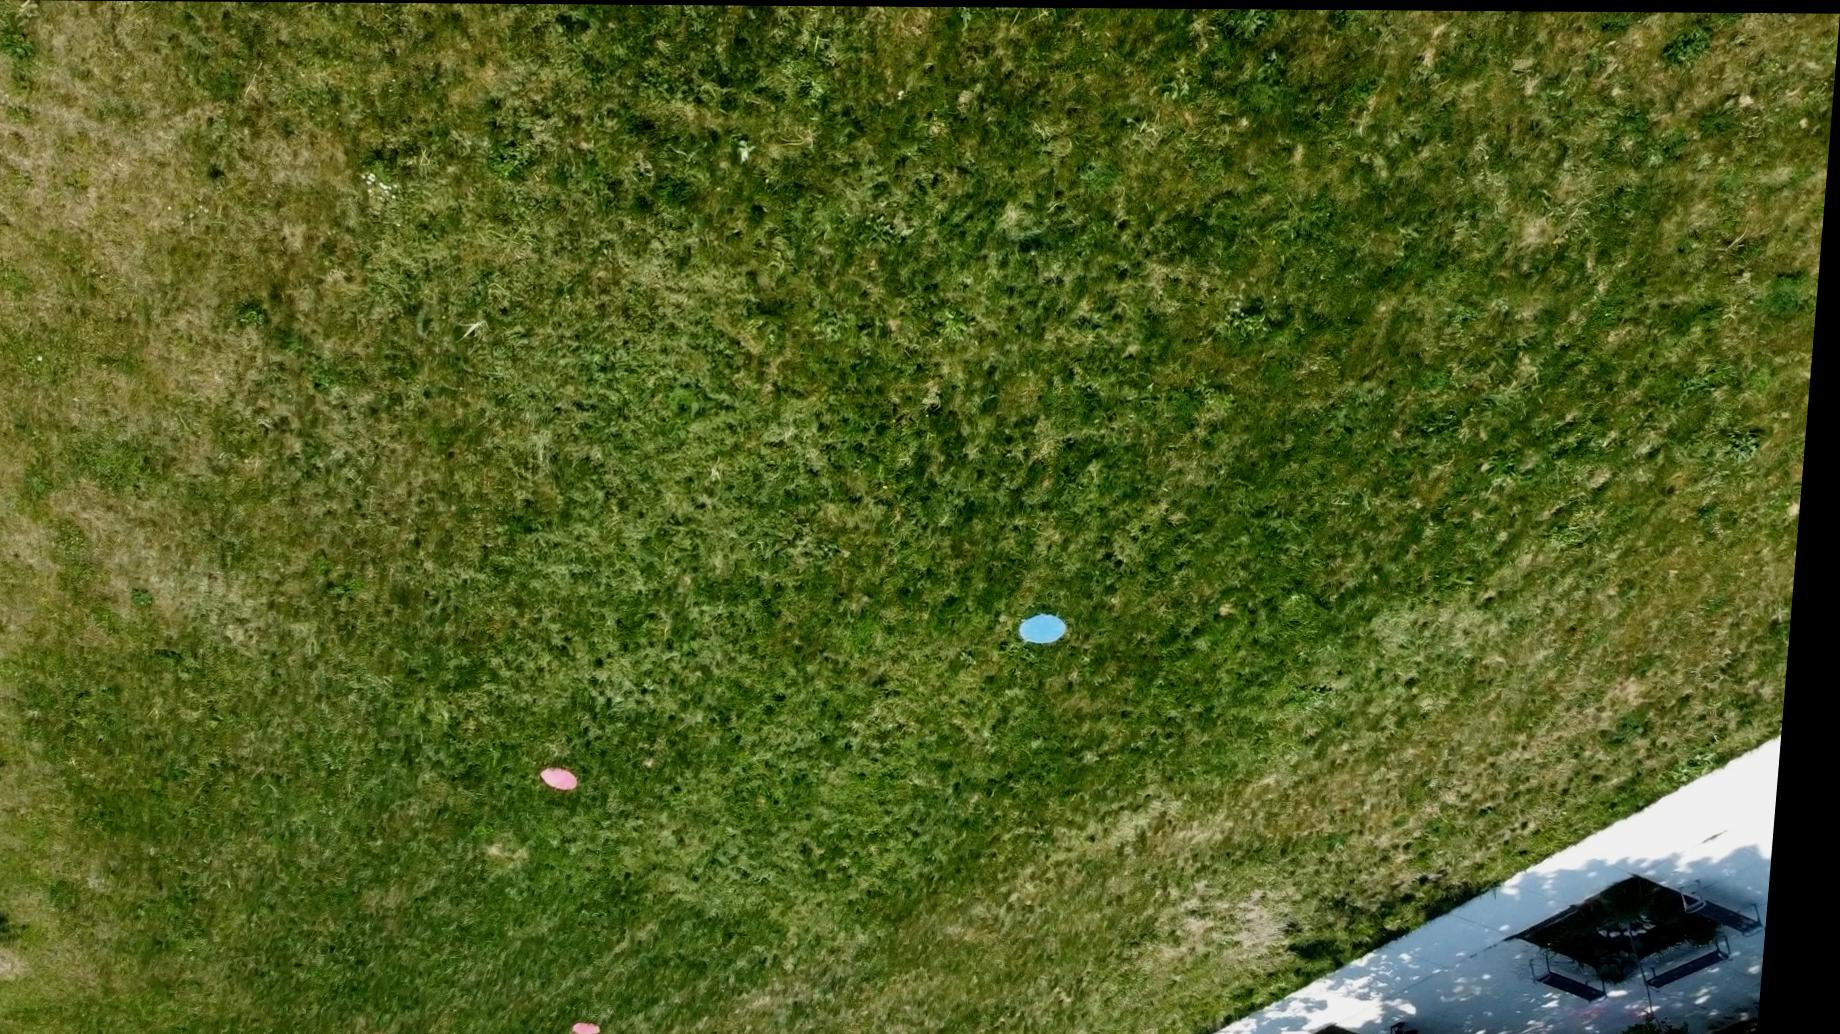Blue: (1023, 609, 1082, 648)
Red: (548, 764, 593, 790), (586, 1019, 621, 1034)
